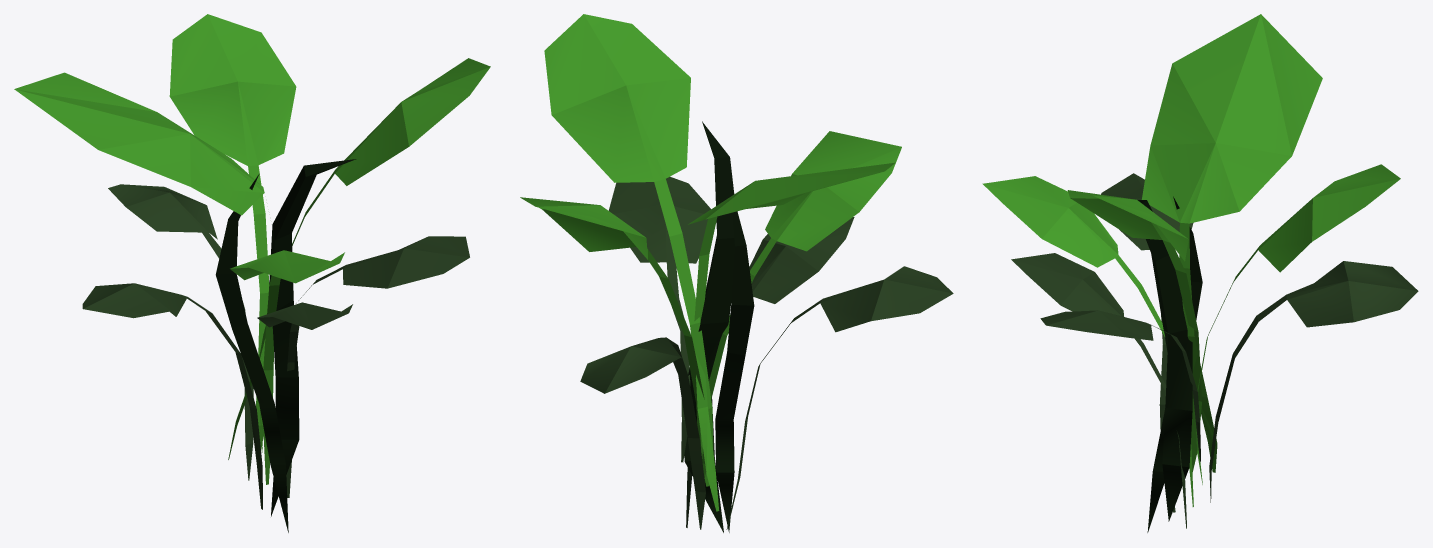
File: Plant_02.fbx
3 renders of one model, left to right at view 1: azimuth 30°, elevation 25°; view 2: azimuth 150°, elevation 25°; view 3: azimuth 270°, elevation 25°, orthographic. The views are drawn at different scales.
Parts seen in each view (by area): view 1: Plant_02; view 2: Plant_02; view 3: Plant_02.
Part boxes in pixels (box(x1,y1,x2,y2)): Plant_02: box(14, 14, 490, 532); Plant_02: box(520, 14, 953, 532); Plant_02: box(982, 14, 1418, 532).
Bounding box in the file's own units: 1.83 × 2.01 × 1.88.
